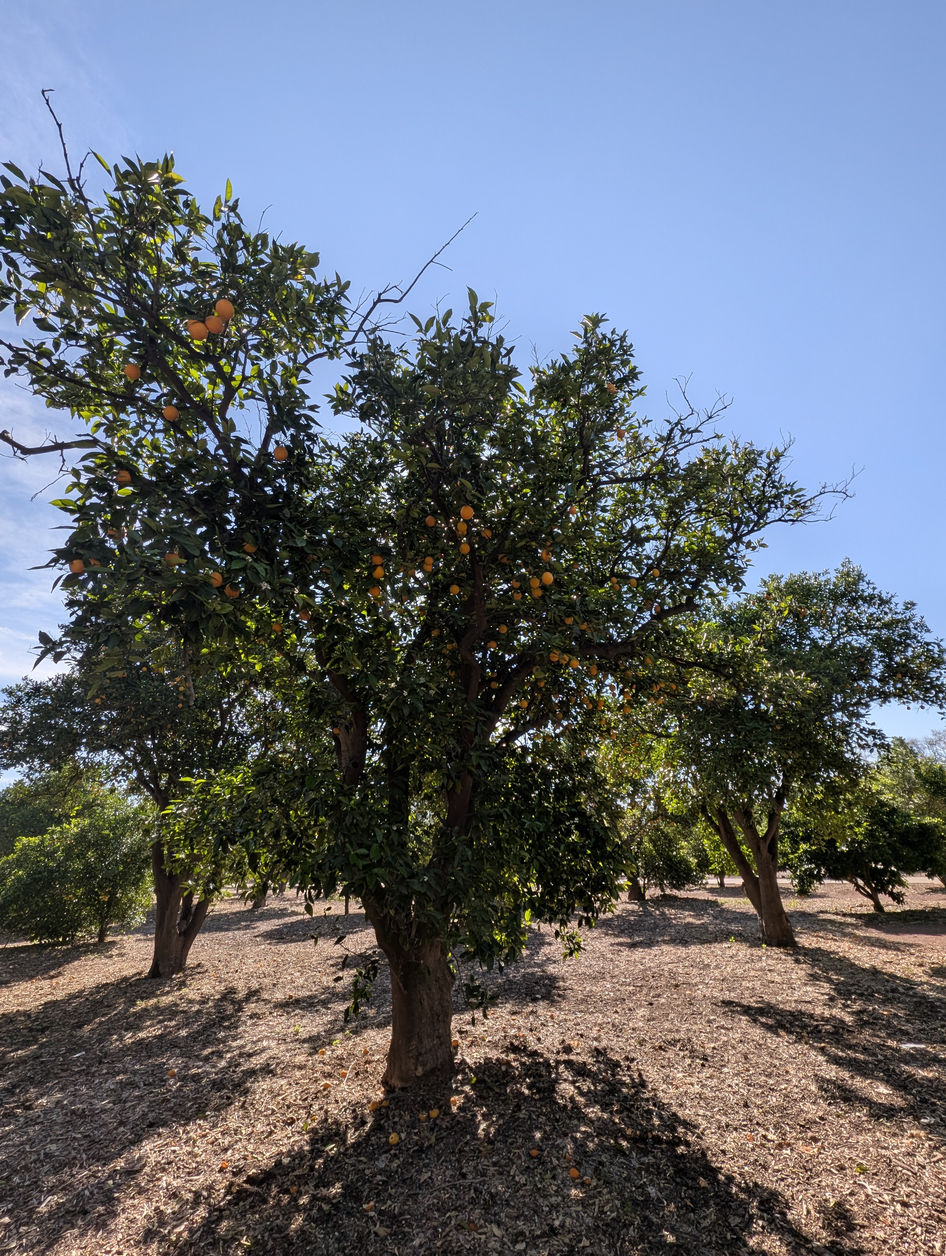orange: (215, 299, 235, 320), (187, 320, 208, 340), (205, 316, 224, 334), (163, 405, 179, 423), (124, 363, 140, 380), (273, 444, 289, 461), (115, 469, 132, 485), (69, 558, 85, 574), (209, 572, 223, 588), (224, 584, 239, 598), (461, 505, 474, 520), (243, 542, 258, 554), (369, 585, 382, 598), (542, 571, 554, 584), (373, 565, 385, 578), (299, 609, 311, 622), (371, 554, 383, 566), (425, 515, 436, 527), (460, 542, 470, 554), (272, 622, 282, 634), (549, 650, 559, 662), (606, 382, 616, 393), (449, 584, 460, 594), (164, 552, 177, 560), (482, 528, 492, 538), (568, 505, 577, 516), (616, 428, 625, 439), (530, 577, 539, 588), (542, 550, 551, 561), (89, 558, 101, 566), (532, 589, 542, 598), (651, 568, 660, 578), (643, 601, 653, 610), (498, 624, 507, 634), (570, 658, 579, 668), (107, 528, 118, 536), (119, 528, 127, 539), (628, 578, 637, 587), (564, 616, 573, 625), (545, 542, 554, 551), (456, 522, 466, 530), (513, 592, 522, 600), (499, 554, 508, 562), (432, 628, 440, 637), (423, 564, 432, 572), (407, 568, 415, 576), (580, 622, 588, 630), (490, 641, 498, 649), (561, 654, 569, 662), (645, 656, 652, 665), (512, 580, 519, 588), (491, 680, 498, 688), (419, 610, 426, 618), (426, 557, 434, 564), (653, 684, 660, 691), (654, 603, 660, 611), (622, 706, 630, 712), (332, 727, 339, 733), (402, 596, 408, 603), (556, 712, 562, 719), (533, 666, 540, 672), (590, 668, 597, 674), (582, 697, 588, 703), (610, 578, 617, 583), (459, 531, 467, 535), (580, 750, 584, 758), (447, 644, 453, 649), (597, 700, 602, 706), (586, 703, 592, 708), (570, 696, 575, 702), (538, 682, 544, 687), (609, 686, 615, 691), (624, 693, 630, 698), (143, 667, 148, 672), (449, 671, 454, 676), (521, 701, 526, 706), (671, 685, 676, 690), (491, 672, 497, 676), (613, 585, 619, 589), (378, 602, 384, 606), (546, 736, 552, 740), (599, 720, 605, 724), (553, 694, 559, 698), (603, 675, 609, 679), (590, 665, 597, 668), (452, 643, 457, 647), (612, 734, 616, 739), (658, 699, 663, 703), (612, 693, 616, 697), (567, 724, 571, 728), (572, 564, 577, 567), (659, 684, 664, 687), (597, 706, 601, 709)
